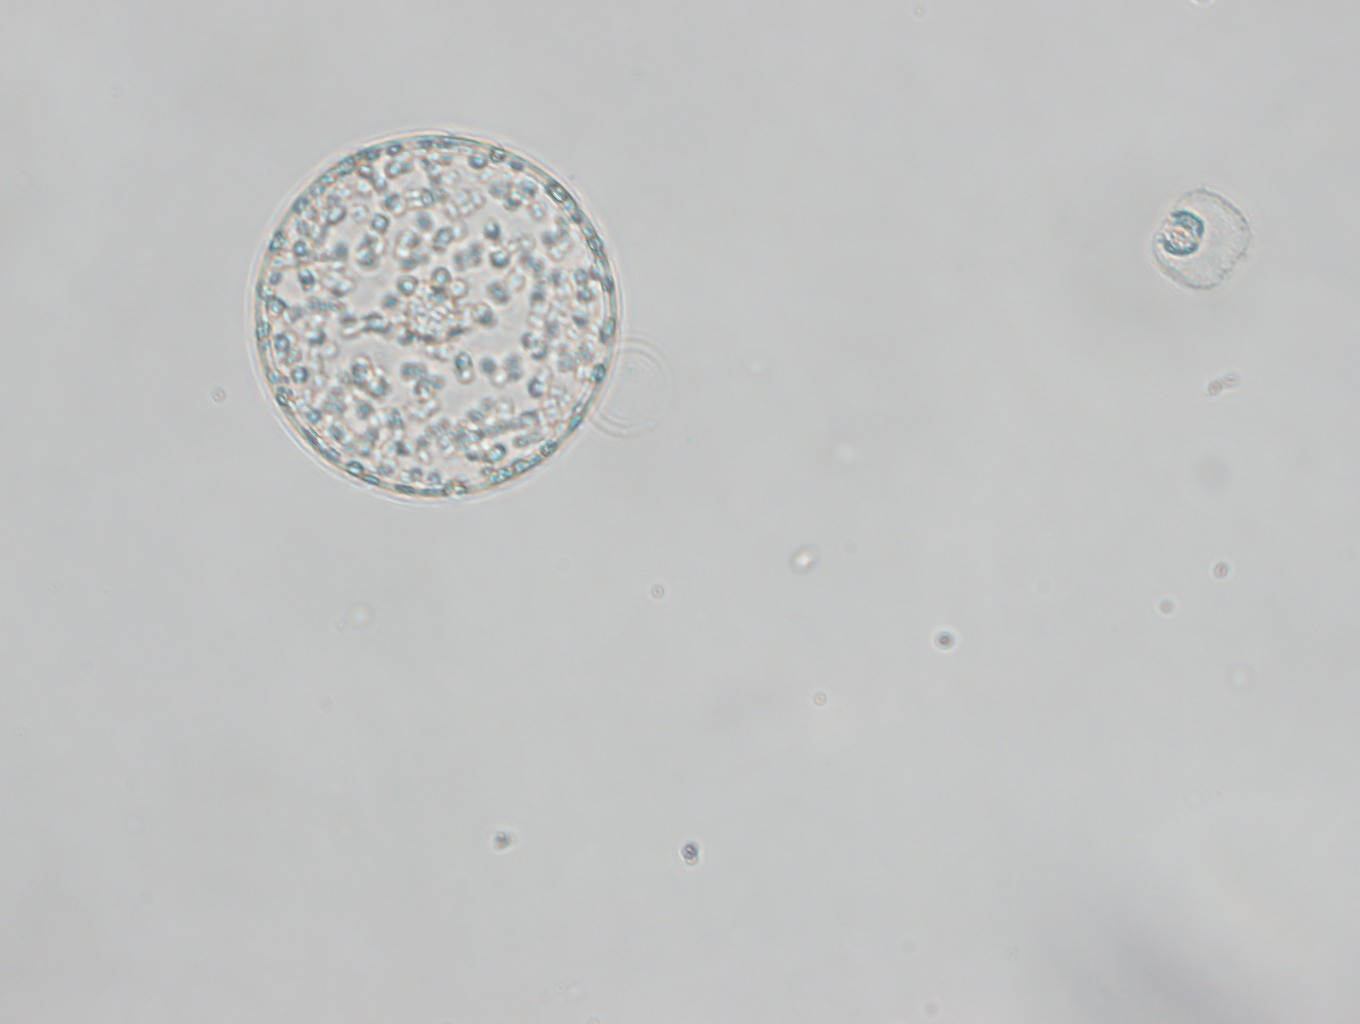coscinodiscus: (249, 127, 617, 503)
coscinodiscus flank: (1147, 184, 1254, 293)
